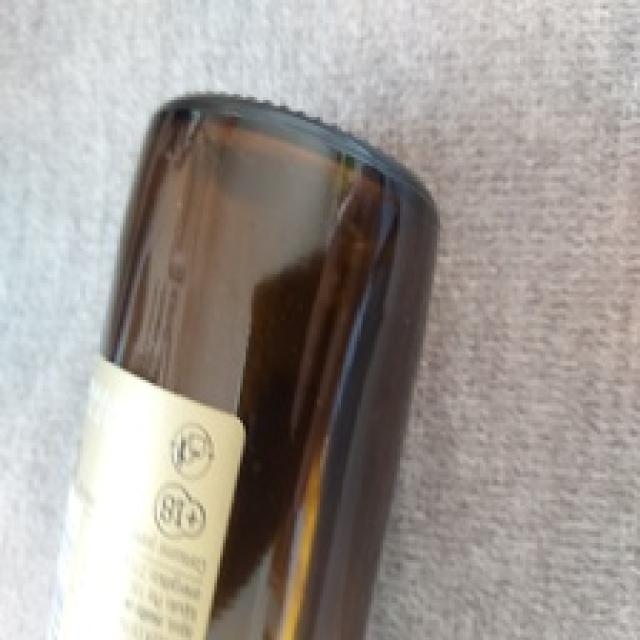Glass: (61, 93, 438, 640)
